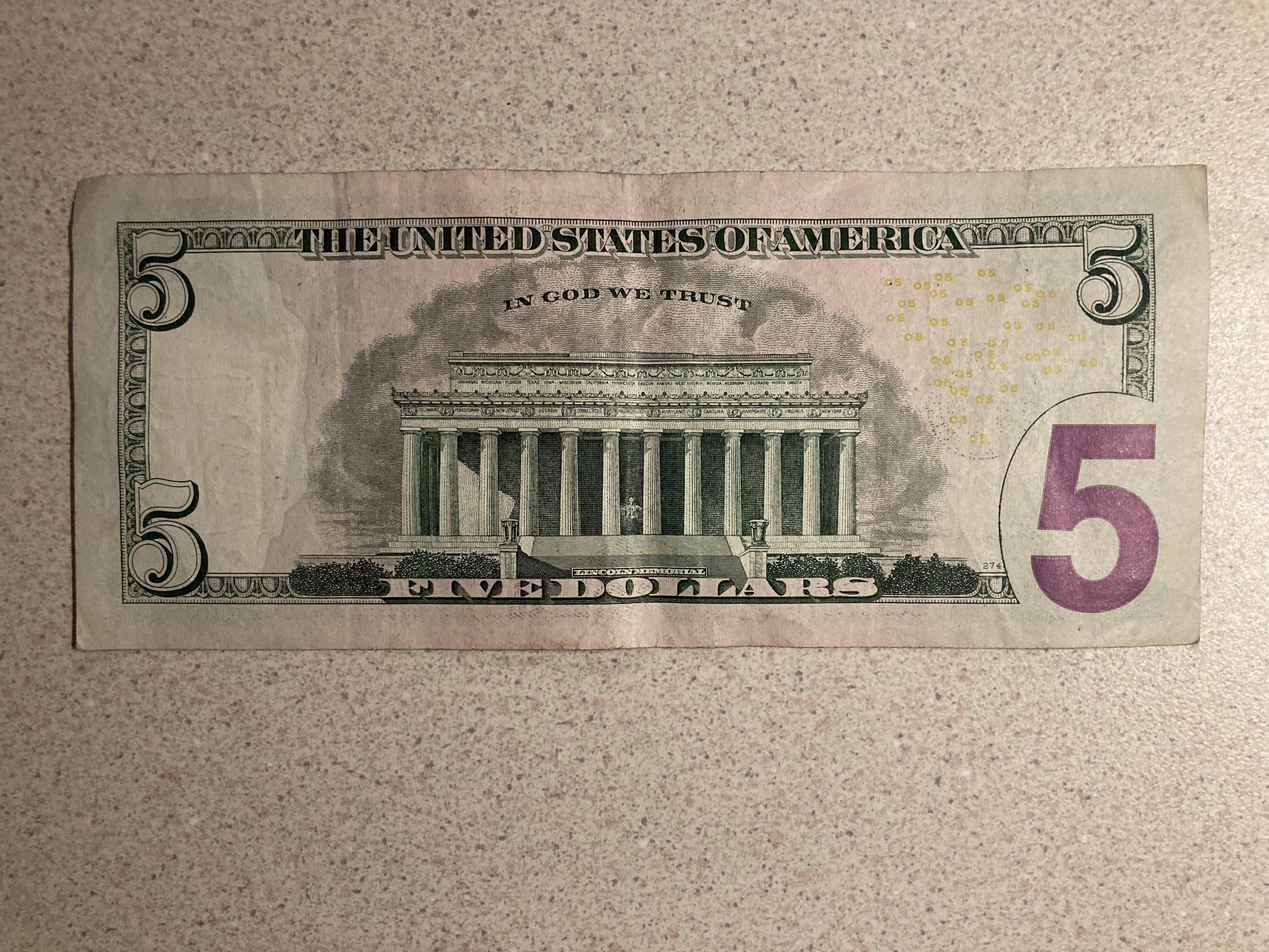five-back: (71, 161, 1213, 653)
